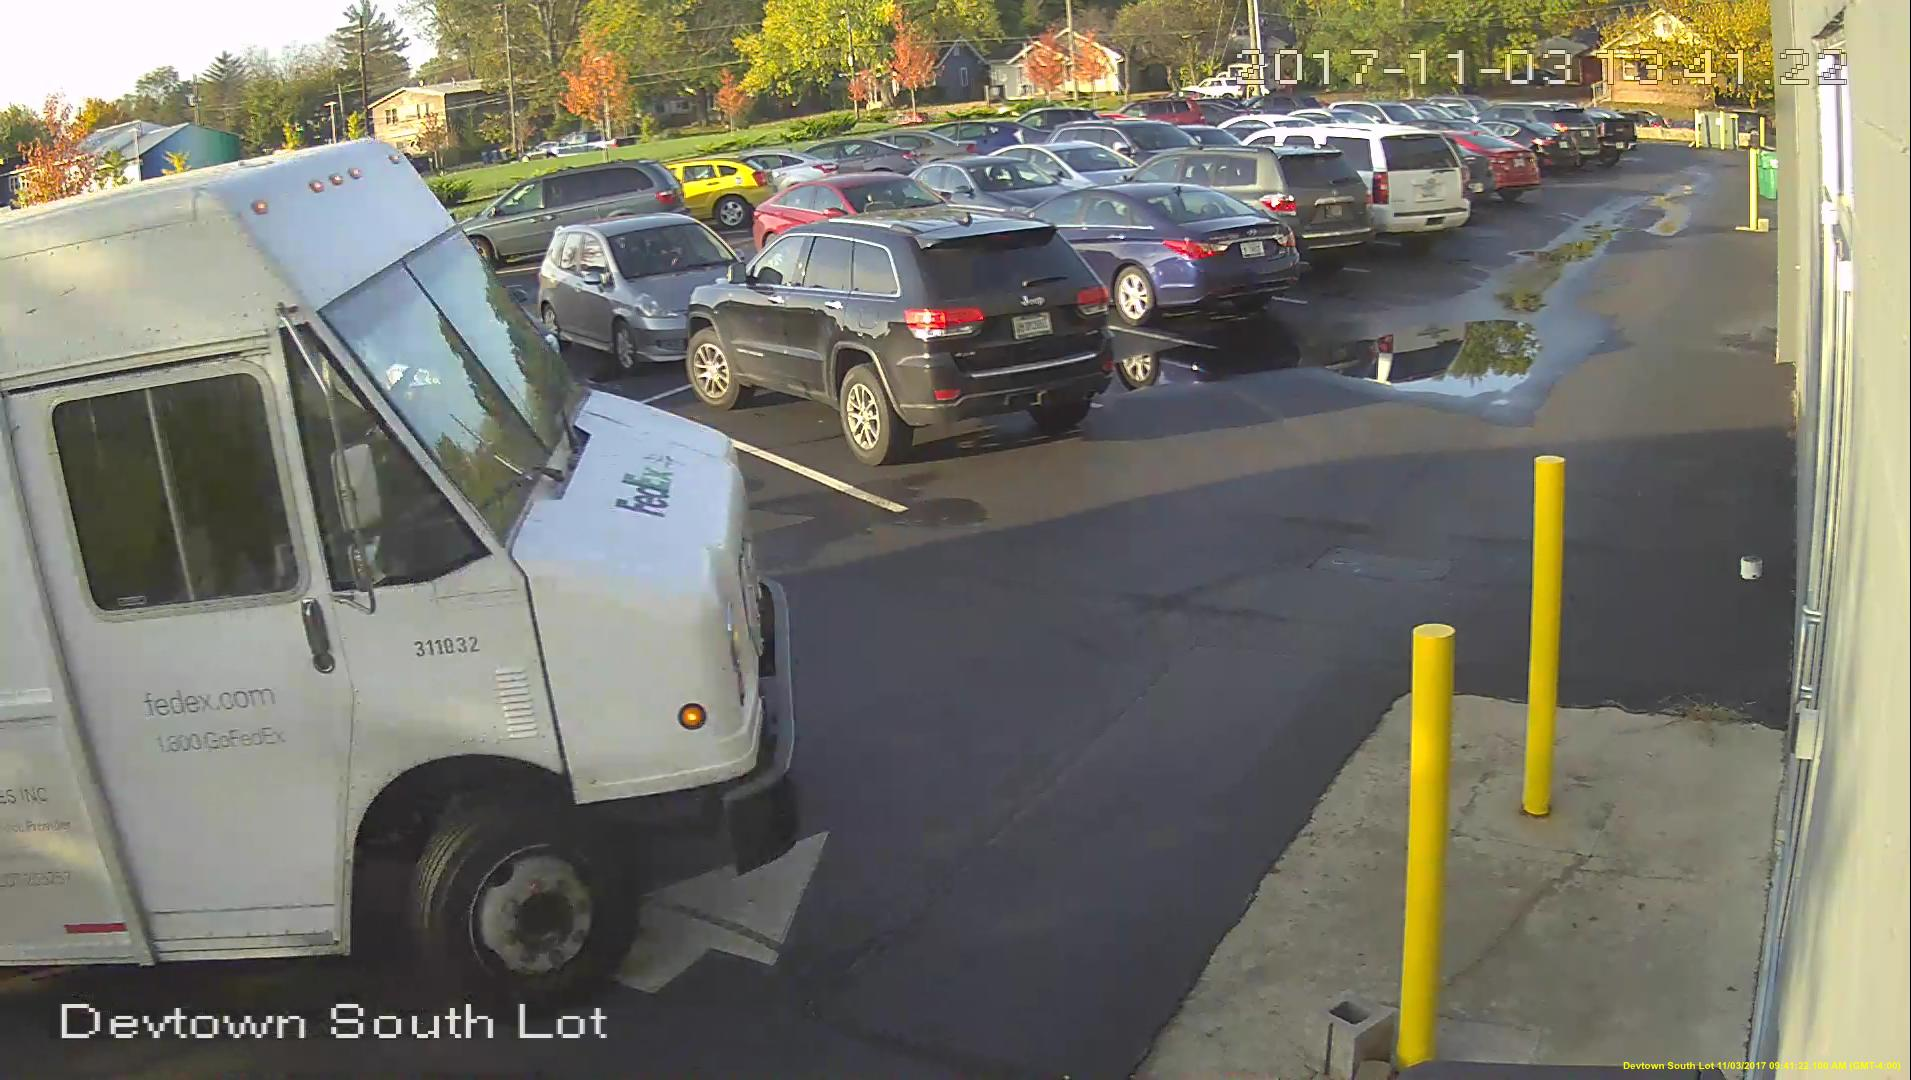fedex_truck: (1, 138, 798, 980)
